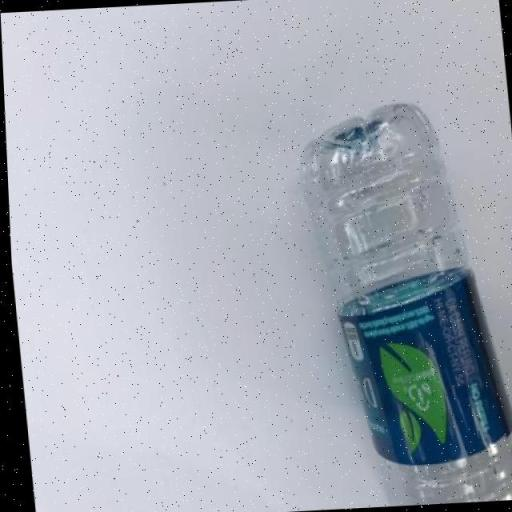plastic: (289, 94, 512, 510)
